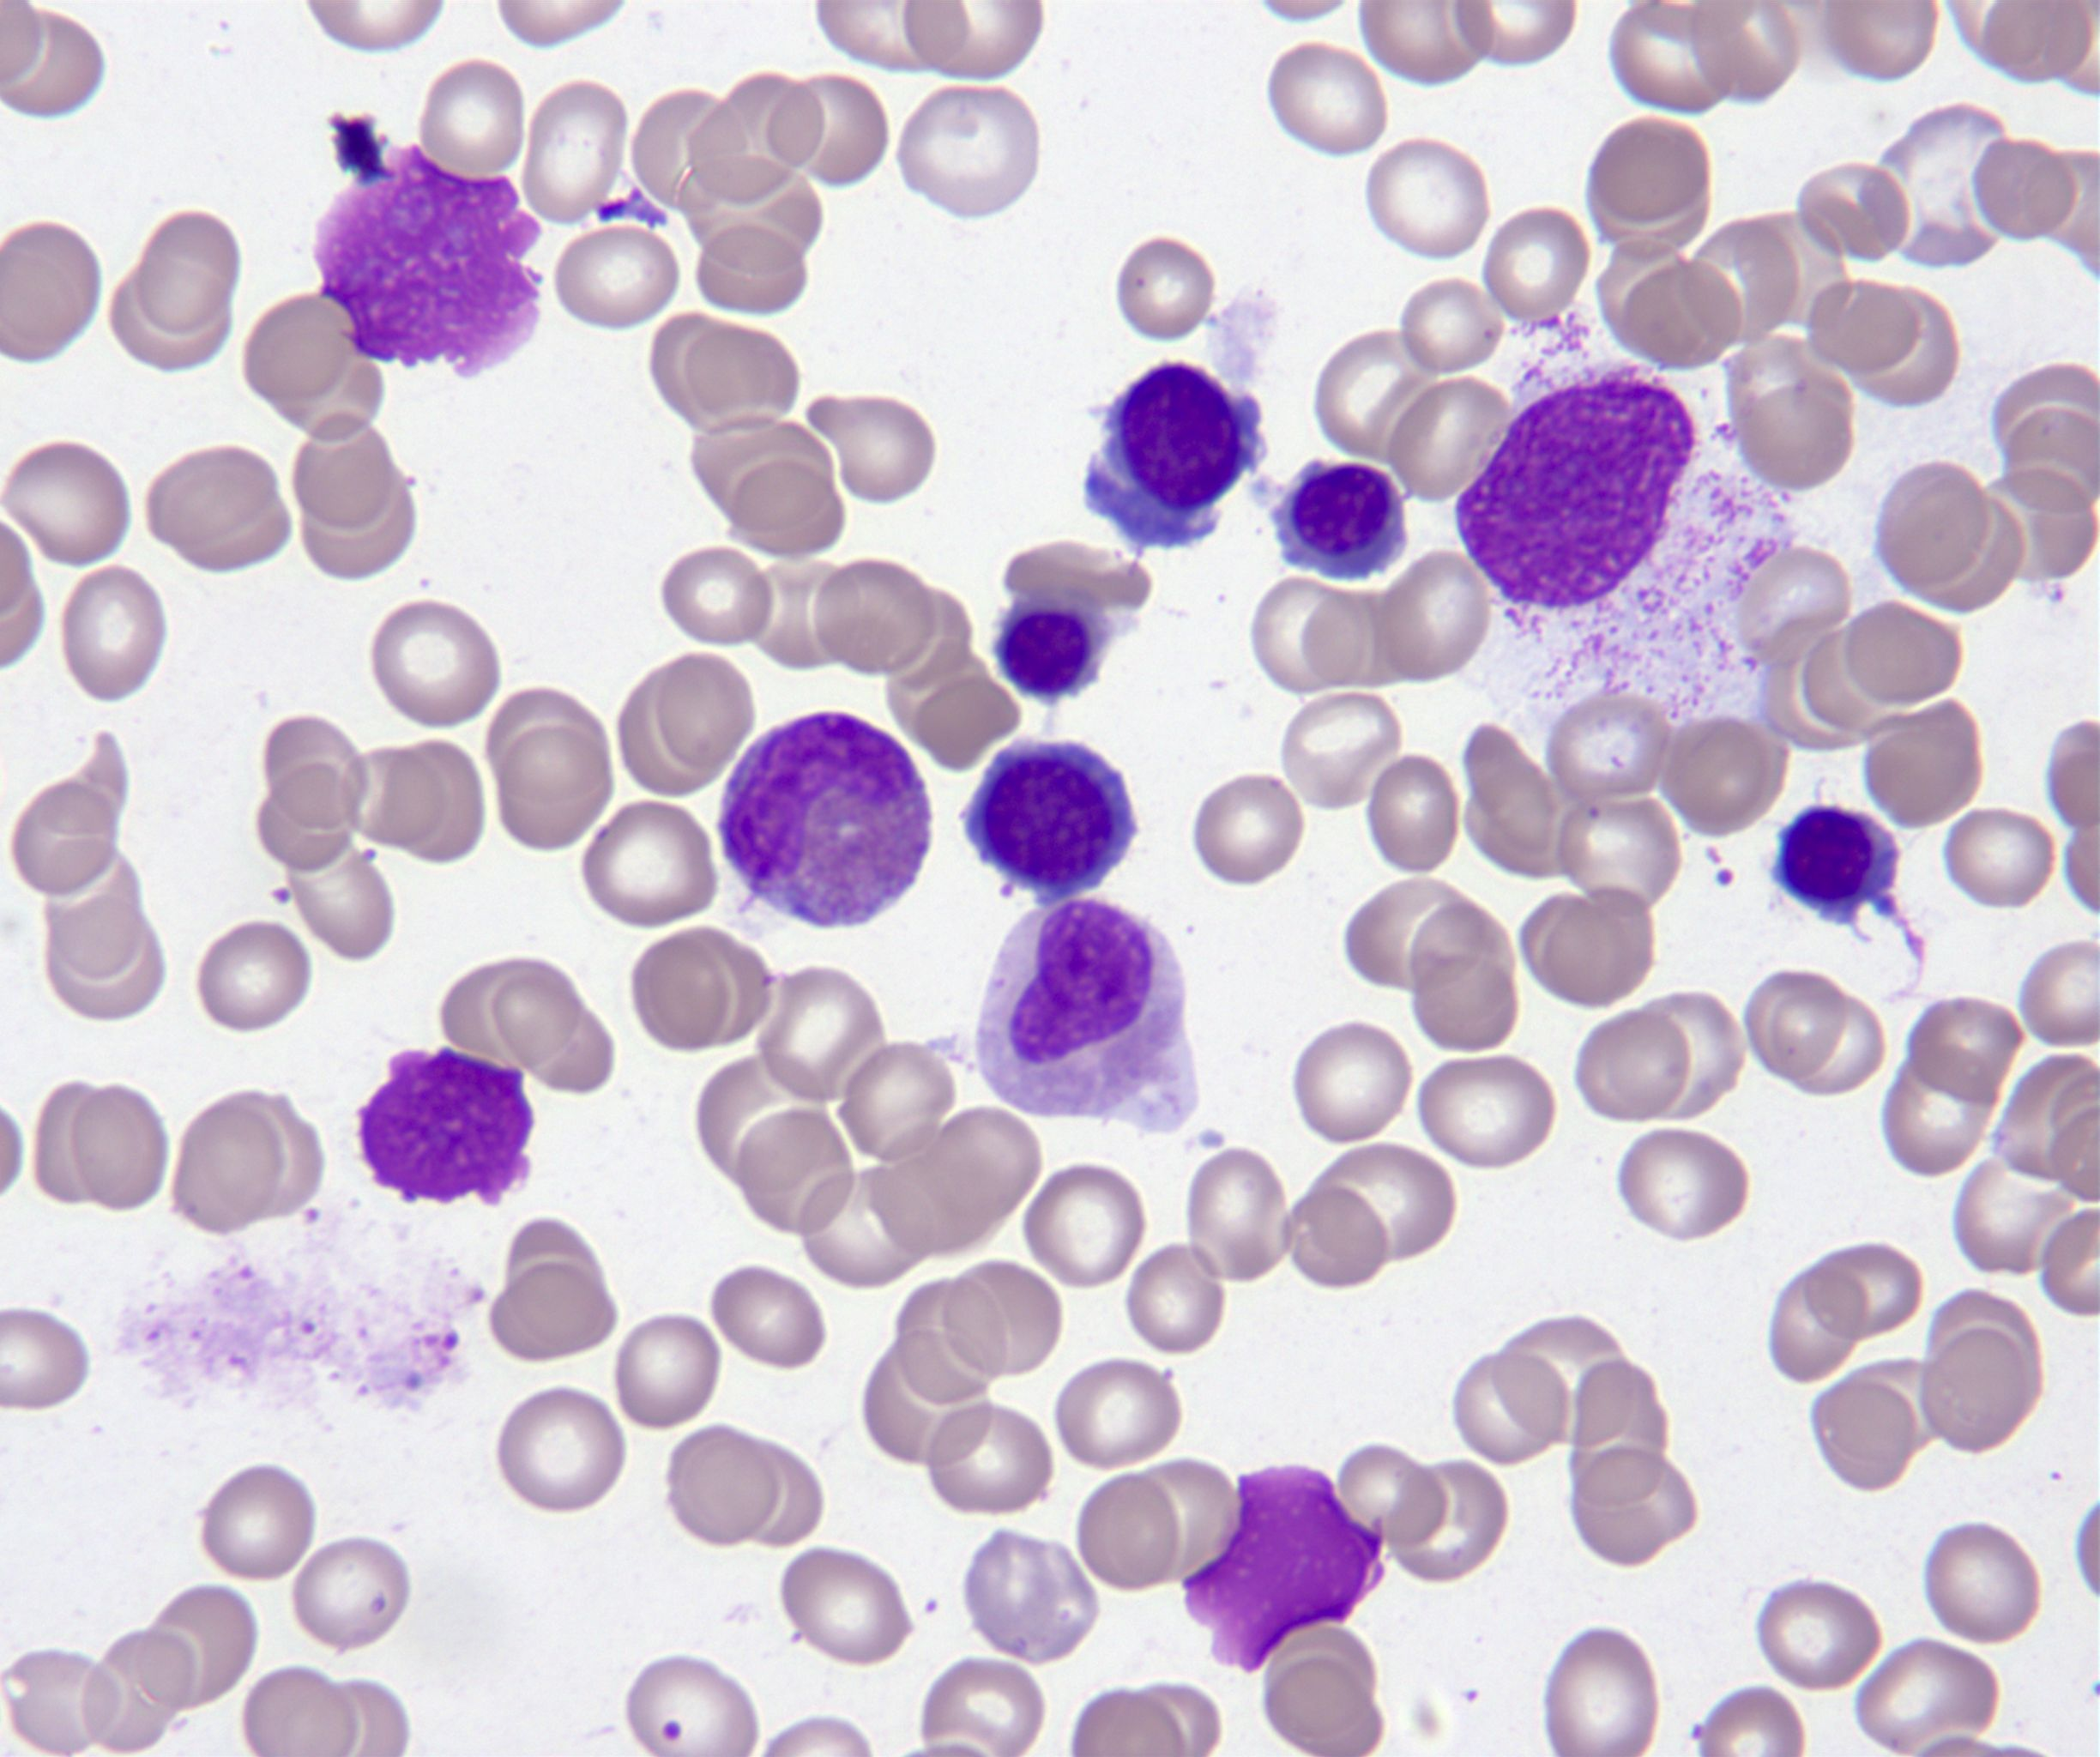23: (1087, 359, 1266, 550), (966, 740, 1135, 907)
24: (1770, 804, 1924, 1000), (1275, 459, 1409, 583), (994, 591, 1135, 705)
4: (973, 904, 1198, 1131)
E2: (722, 714, 931, 926)
x: (1458, 311, 1790, 735), (314, 141, 542, 377), (1183, 1467, 1385, 1672), (358, 1049, 537, 1207)
